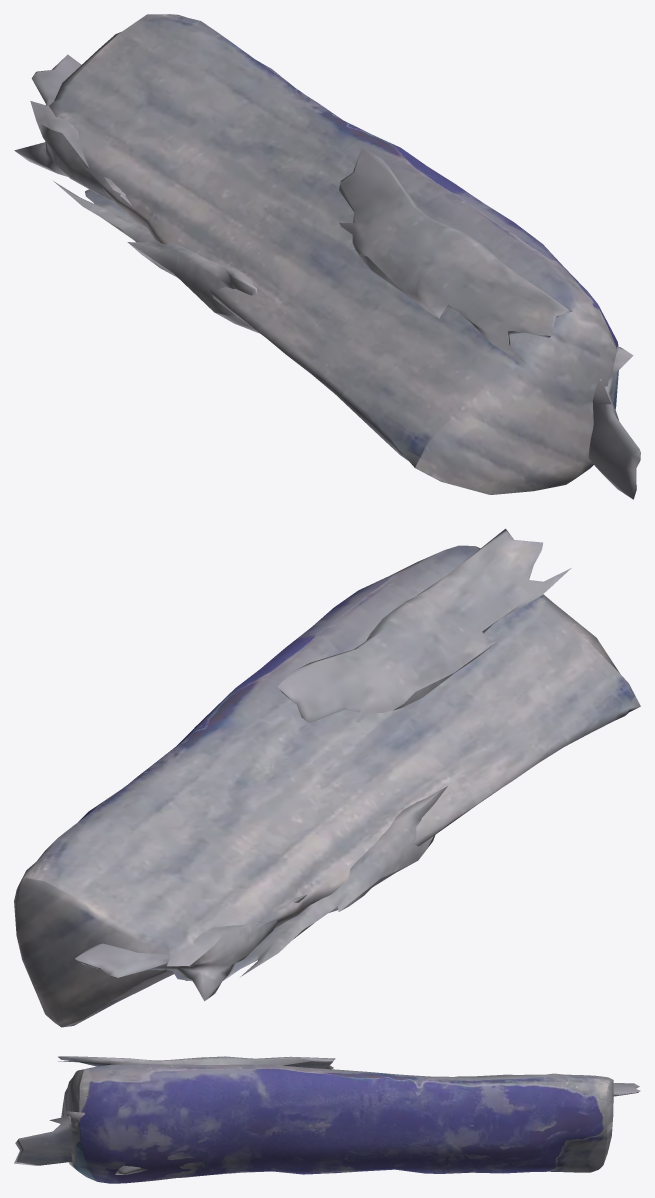
3 renders of one model, top to bottom at view 1: azimuth 30°, elevation 25°; view 2: azimuth 150°, elevation 25°; view 3: azimuth 270°, elevation 25°, orthographic. The views are drawn at different scales.
Parts seen in each view (by area): view 1: SM_Chopped_Willow_log_01_LOD0; view 2: SM_Chopped_Willow_log_01_LOD0; view 3: SM_Chopped_Willow_log_01_LOD0.
Part boxes in pixels (box(x1,y1,x2,y2)): SM_Chopped_Willow_log_01_LOD0: box(14, 14, 640, 499); SM_Chopped_Willow_log_01_LOD0: box(14, 528, 640, 1027); SM_Chopped_Willow_log_01_LOD0: box(14, 1056, 640, 1183).
Size of the model in its own units: 0.233 by 0.1848 by 0.8848.
1 material, 1 textured.
